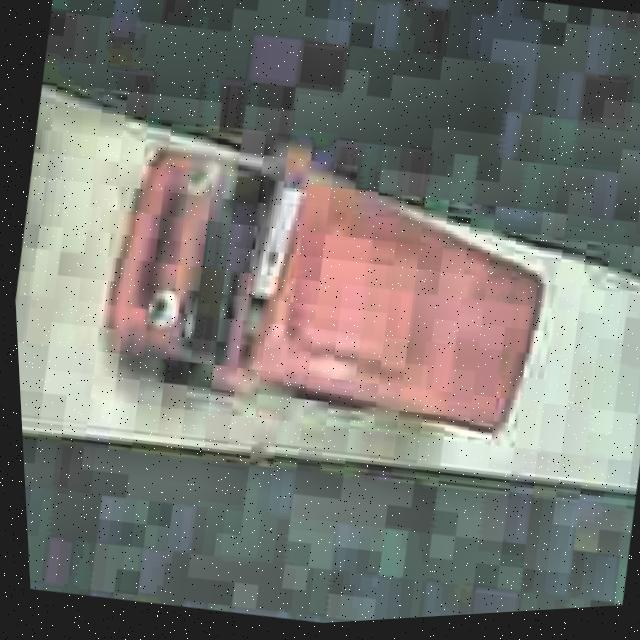bus: (79, 105, 571, 466)
